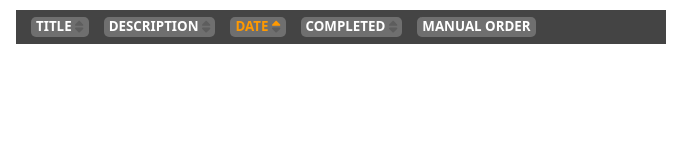
Test: ImportExport › should change active column from createdAt to title column
The width and height of the screenshot is (683, 160).
Step 1. Click the element with test id "title-sort-button-direction-none" → coordinates (60, 27), box left=31, top=17, right=89, bottom=37
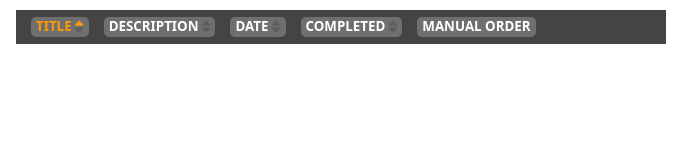
Expected: the element with test id "description-sort-button-direction-none" is shown, left=104, top=17, right=216, bottom=37
Now the element with test id "createdAt-sort-button-direction-none" is shown, box left=230, top=17, right=286, bottom=37
Now the element with test id "title-sort-button-direction-asc" is shown, box left=31, top=17, right=89, bottom=37
